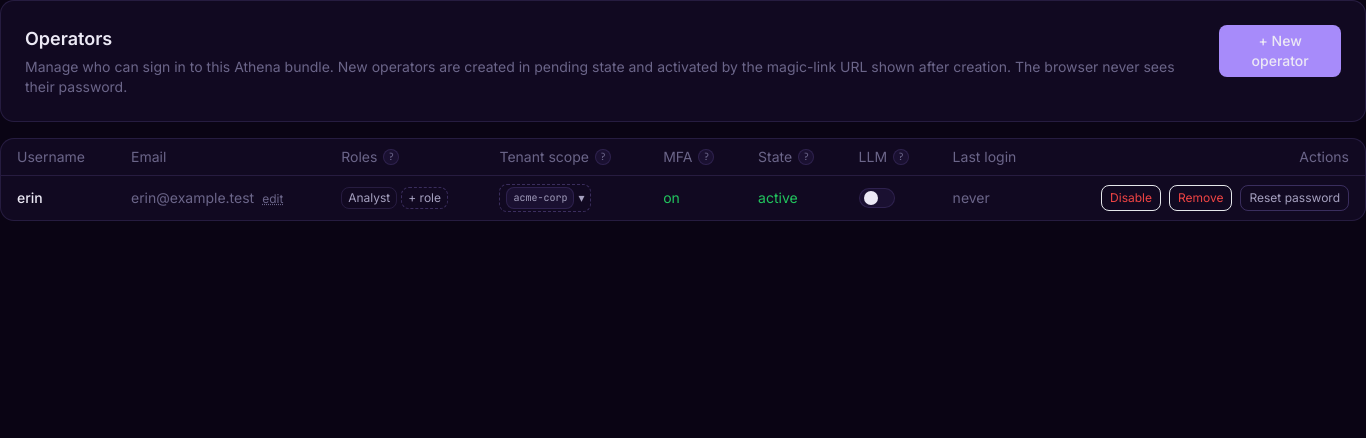
OperatorsTab — changing a viewer's scope › an analyst's editor still offers all tenants
Click the button with test id "scope-editor-erin": (546, 198) [500,184,592,212]
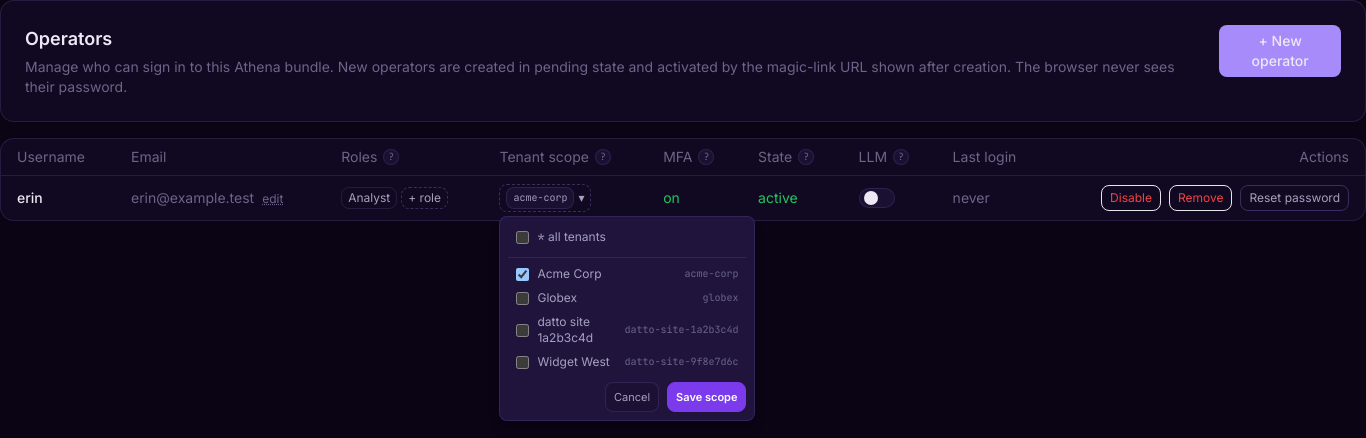
Check: the checkbox labelled "all tenants" is enabled, box [516,230,530,244]
